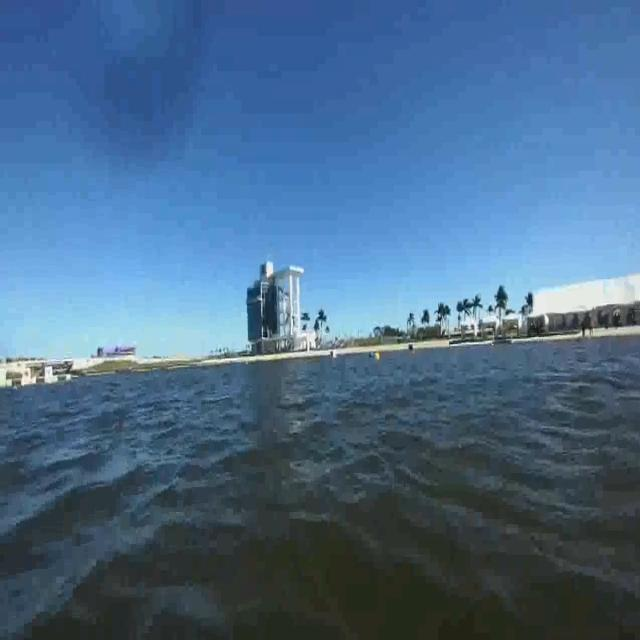yellow-buoy: (374, 350, 380, 363)
